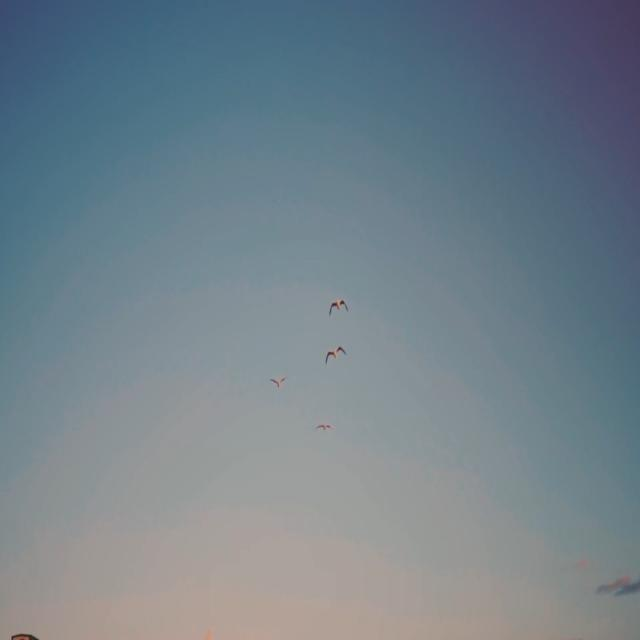bird: (325, 345, 347, 366), (328, 298, 349, 316), (268, 373, 289, 389), (315, 423, 335, 435)
